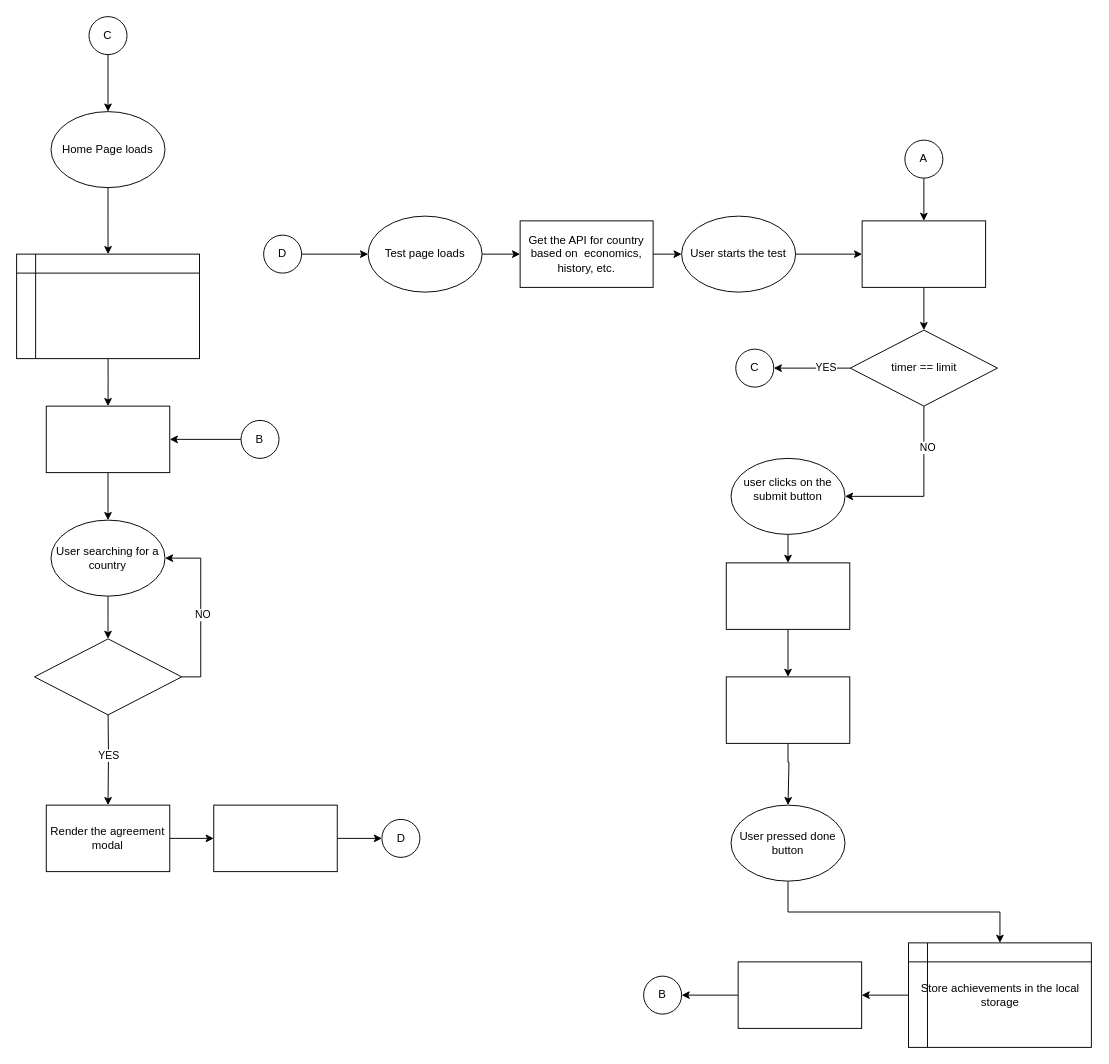
This 1109x1064 diagram has some shape labels left out. The shapes that lost their labels are listed below. From the top down, each one's centre as x and y in pixels, then its label:
At pixel 923 253: "Render questions and start timer".
At pixel 108 306: "Load achievements from the local storage".
At pixel 107 439: "Render achievements in font page".
At pixel 787 595: "Checks for the invalid and left unknown answers".
At pixel 108 676: "is country existing/valid?".
At pixel 787 709: "Render corrected form with reset and done button".
At pixel 275 838: "Ask username and agree with the agreemnet".
At pixel 799 994: "Quiz page exits".
